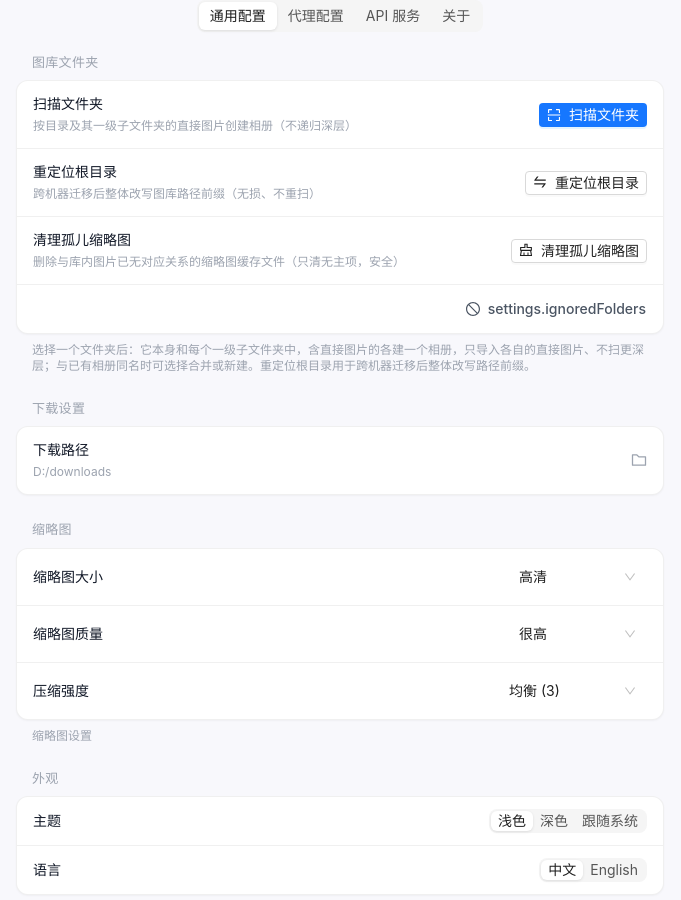
SettingsPage general tab behavior › 接收 api-service:status-changed 后应直接刷新 API 服务状态展示
Click the text "API 服务". click: [393, 16]
box: [366,7,420,24]
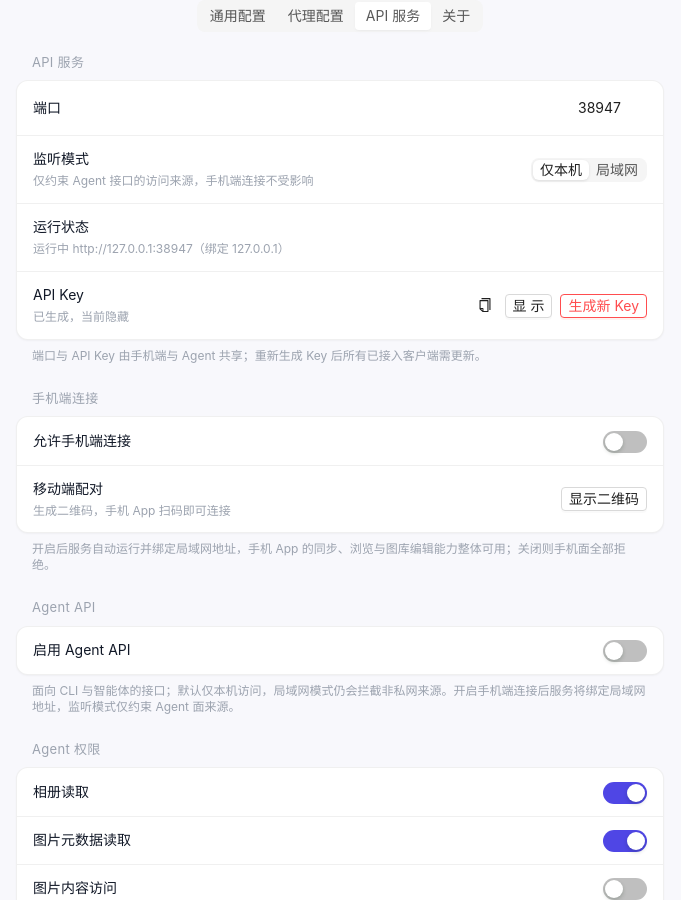
expect the text "运行状态" is shown: met, box [33,218,89,235]
expect the text "运行中 http://127.0.0.1:38947（绑定 127.0.0.1）" is shown: met, box [33,241,290,256]
